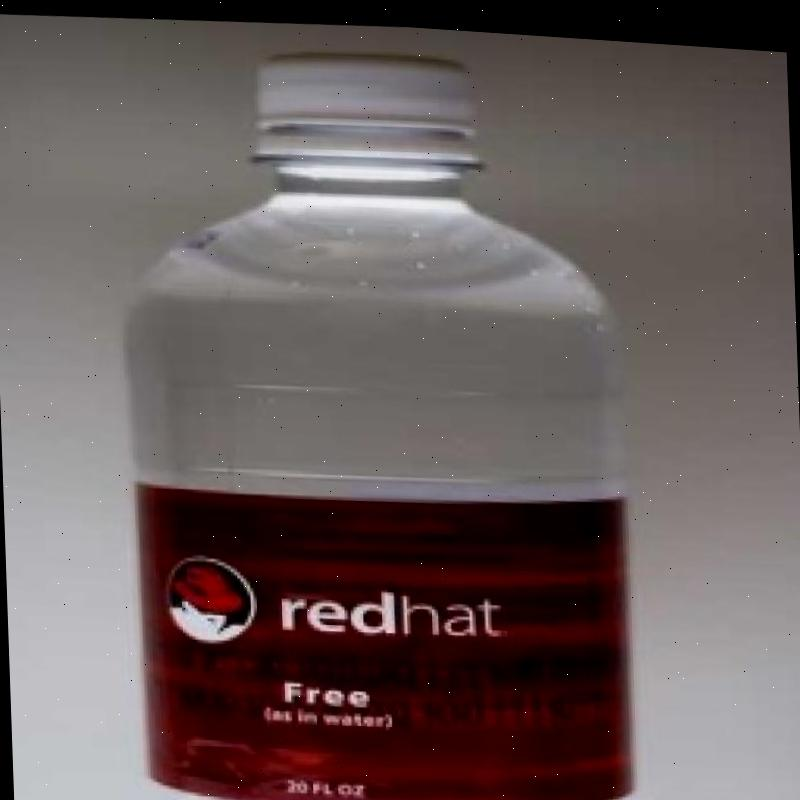botella: (102, 24, 648, 800)
